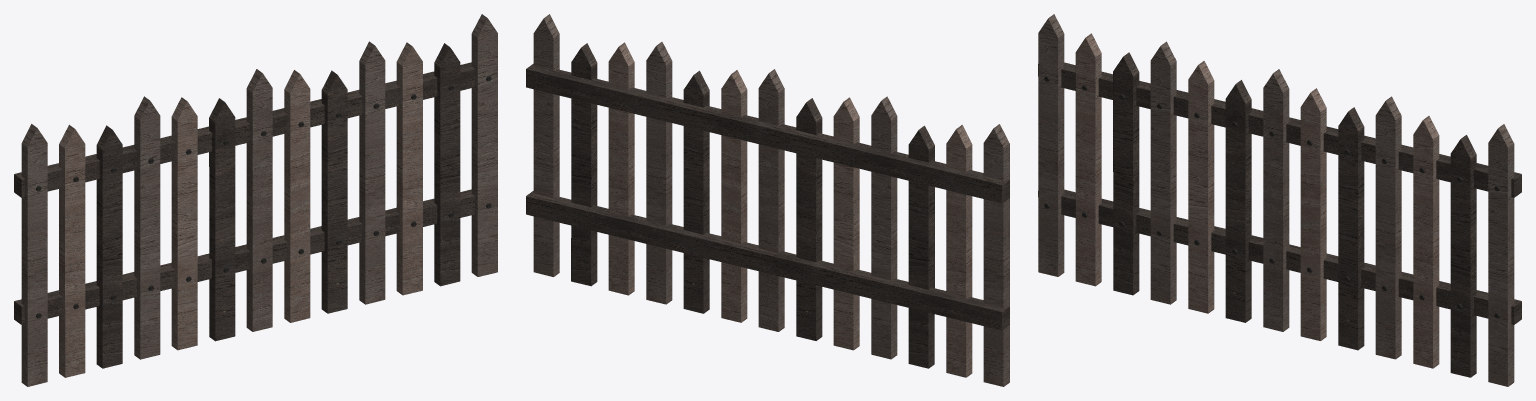
The model's file is Fence_2m.gltf.
The picture shows the model from 3 angles, left to right: view 1: azimuth 30°, elevation 25°; view 2: azimuth 150°, elevation 25°; view 3: azimuth 330°, elevation 25°; orthographic projection.
Parts seen in each view (by area): view 1: Fence_2m; view 2: Fence_2m; view 3: Fence_2m.
Boxes of the visible parts, left/top/right/bottom form: Fence_2m: left=14, top=14, right=497, bottom=386; Fence_2m: left=526, top=14, right=1009, bottom=386; Fence_2m: left=1038, top=14, right=1521, bottom=386.
Size of the model in its own units: 2 by 1.03 by 0.0913.
Materials: 4 (4 with a texture image).
